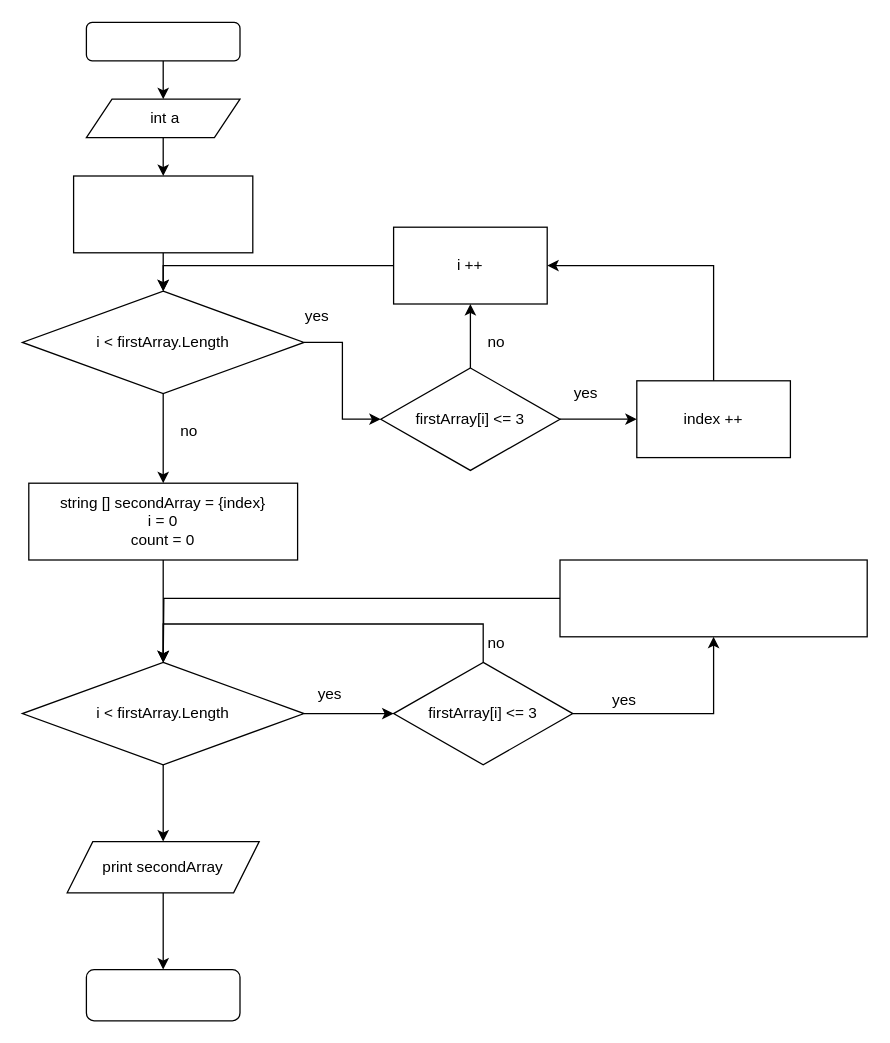
Some shapes in this 890 by 1043 pixel diagram are drawn without their labels. Each missing label, with the box of its shape:
end: (85, 968, 240, 1021)
secondArray[count] = firstArray[i] count ++: (559, 559, 867, 637)
start: (85, 21, 240, 61)
string [] firstArray = {a} i = 0 index = 0: (72, 175, 253, 253)
